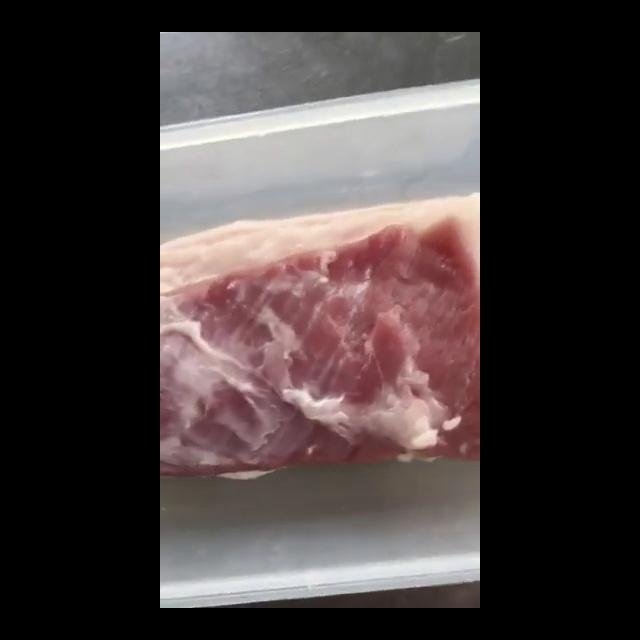pork: (160, 191, 480, 475), (160, 32, 162, 34)
